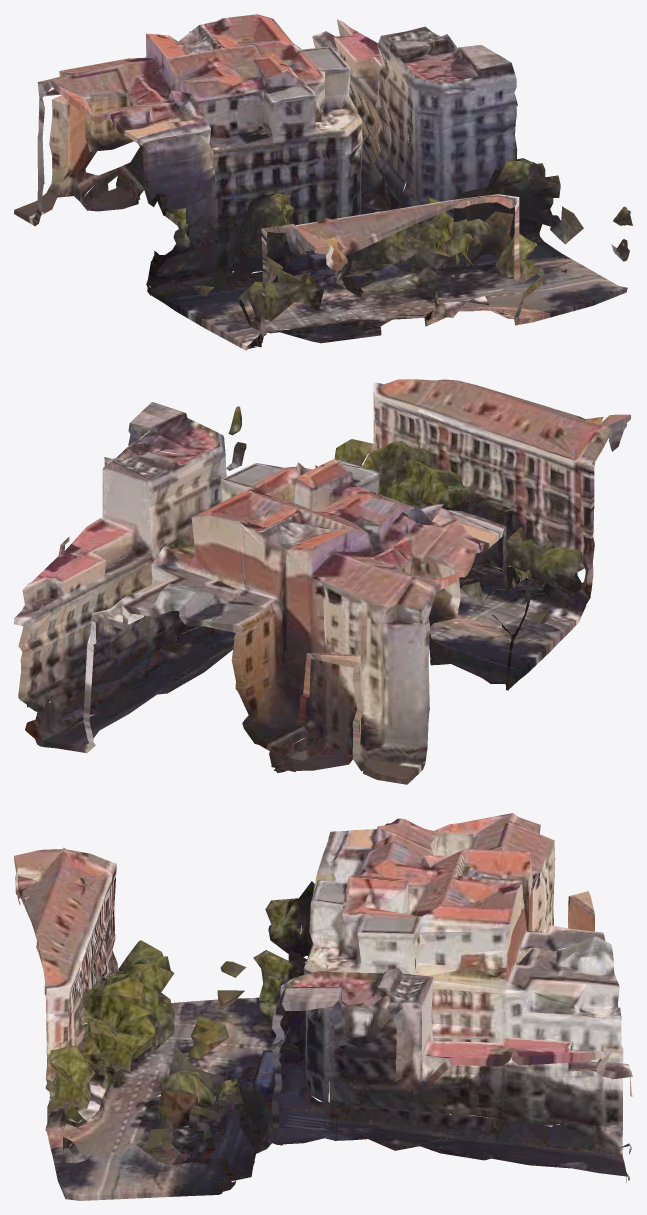
3 views of the same model, one above another, from view 1: azimuth 30°, elevation 25°; view 2: azimuth 150°, elevation 25°; view 3: azimuth 270°, elevation 25° (orthographic). The views are drawn at different scales.
Visible parts, largest first — view 1: Mesh_0; view 2: Mesh_0; view 3: Mesh_0.
Boxes of the visible parts, x1,y1,x2,y2 form: Mesh_0: (14,14,632,350); Mesh_0: (14,379,630,784); Mesh_0: (14,813,632,1200).
Size of the model in its own units: 67.48 by 33.94 by 82.62.
Materials: 1 (1 with a texture image).
